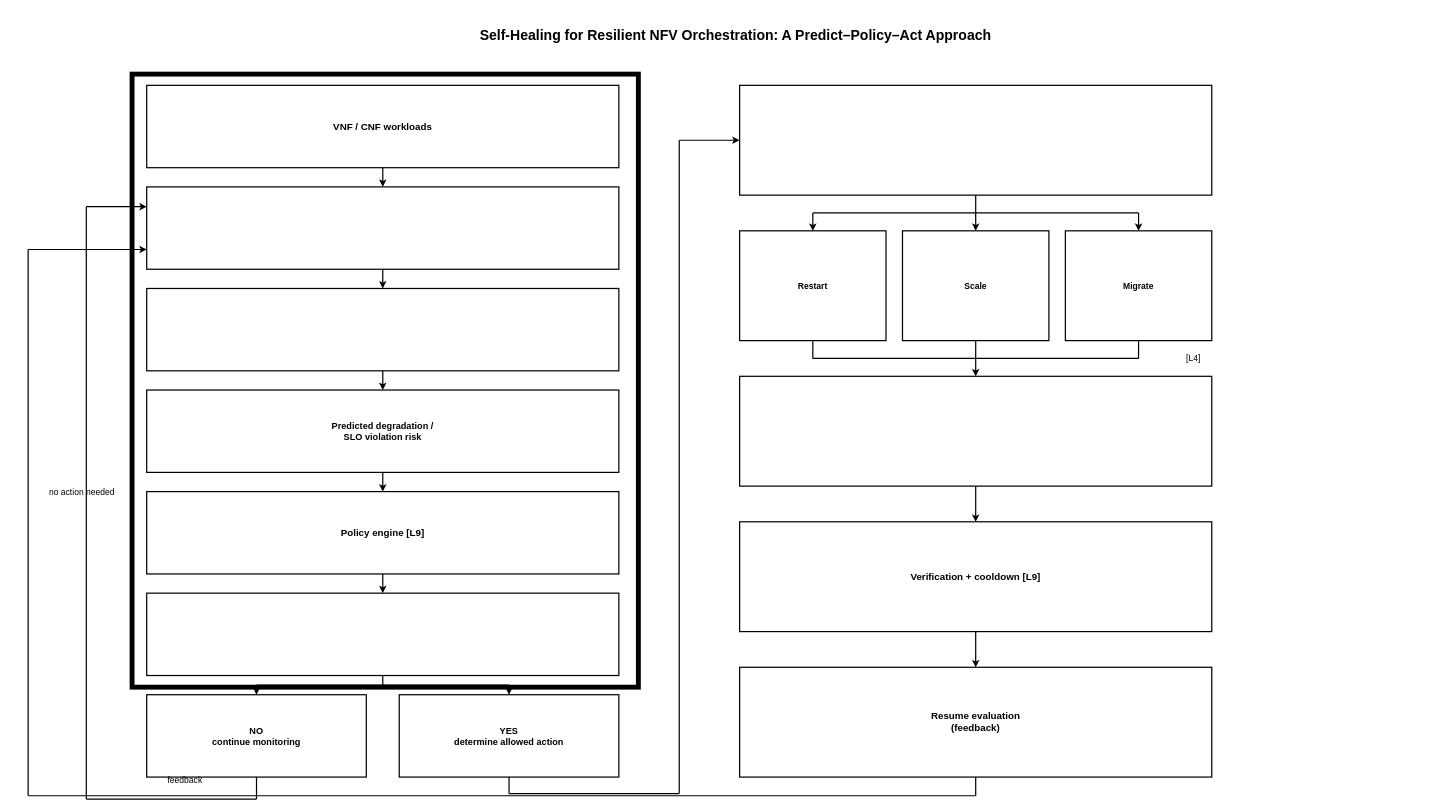
Some shapes in this 1434 by 811 pixel diagram are drawn without their labels. Each missing label, with the centre of its shape:
Conflict resolver / safety guardrails: (x=975, y=139)
Execute action Kubernetes / MANO [L3]: (x=975, y=430)
Is intervention required?: (x=382, y=634)
LSTM risk predictor [L9]: (x=382, y=329)
Telemetry collection [L7] CPU | RAM | latency | loss: (x=382, y=228)
